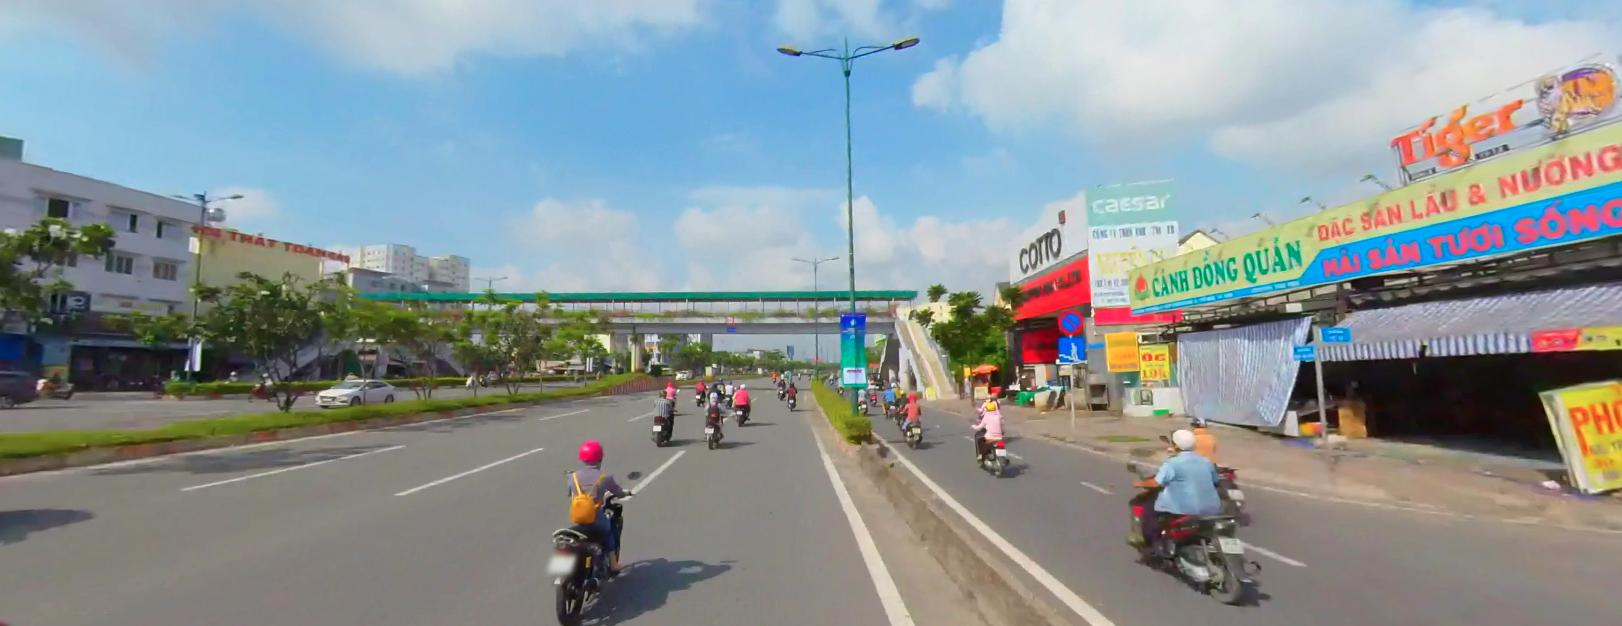Cam con lai: (724, 312, 734, 322), (725, 314, 733, 322), (726, 314, 733, 322)
Cam dung va do: (1056, 307, 1083, 333), (1057, 308, 1082, 333), (1058, 309, 1081, 333)
